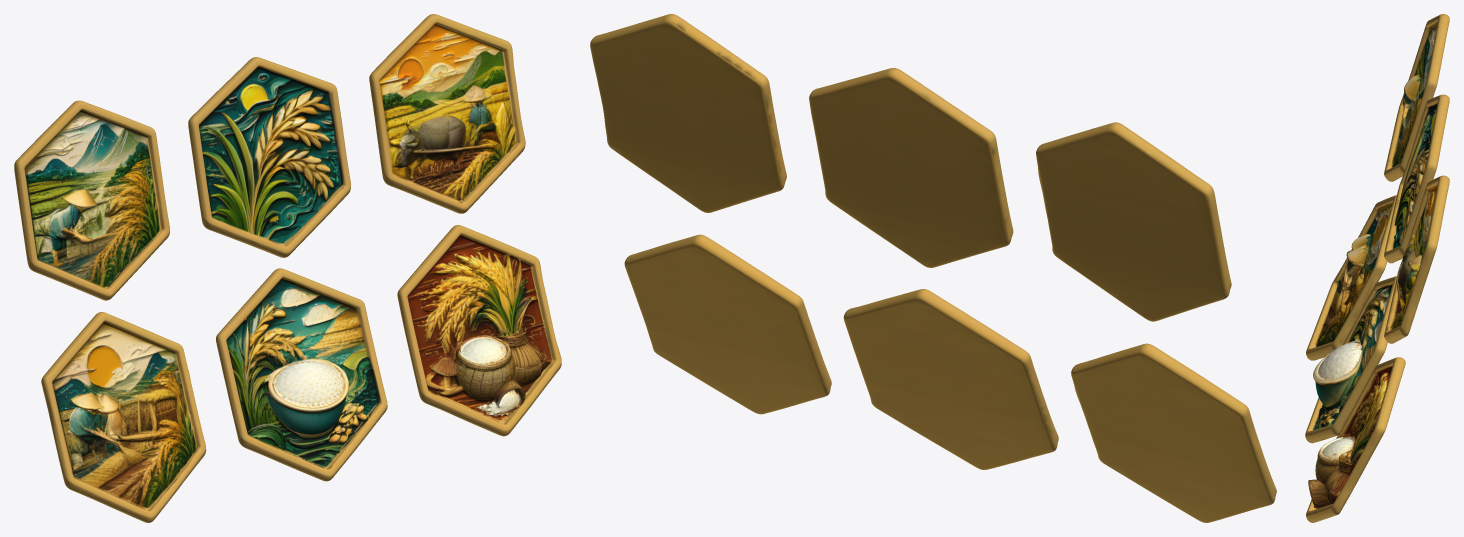
Rendered from award-06.glb.
3 views of the same model, side by side, from view 1: azimuth 30°, elevation 25°; view 2: azimuth 150°, elevation 25°; view 3: azimuth 270°, elevation 25° (orthographic). The views are drawn at different scales.
Parts seen in each view (by area): view 1: node_0; view 2: node_0; view 3: node_0.
Part boxes in pixels (box(x1,y1,x2,y2)): node_0: box(14, 14, 561, 522); node_0: box(590, 14, 1276, 522); node_0: box(1305, 14, 1449, 522).
Bounding box in the file's own units: 1.04 × 0.7411 × 0.28.
1 material, 1 textured.
